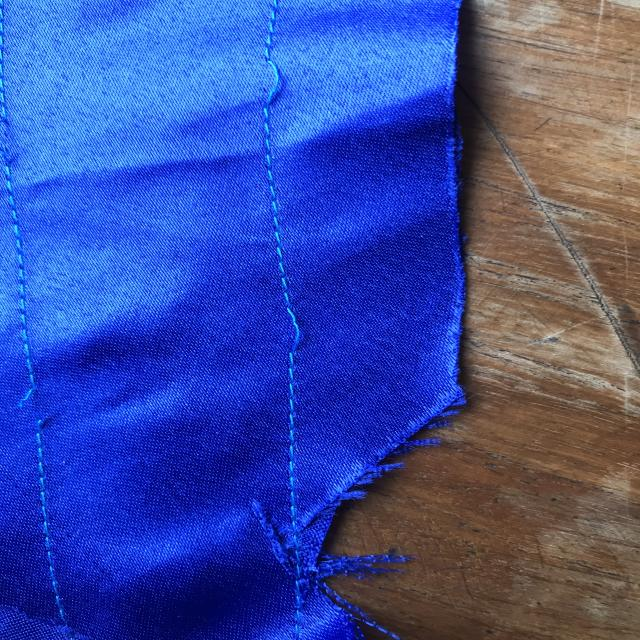broken: (2, 380, 82, 462)
good: (248, 159, 302, 265)
skip: (238, 40, 301, 125), (271, 290, 324, 376)
